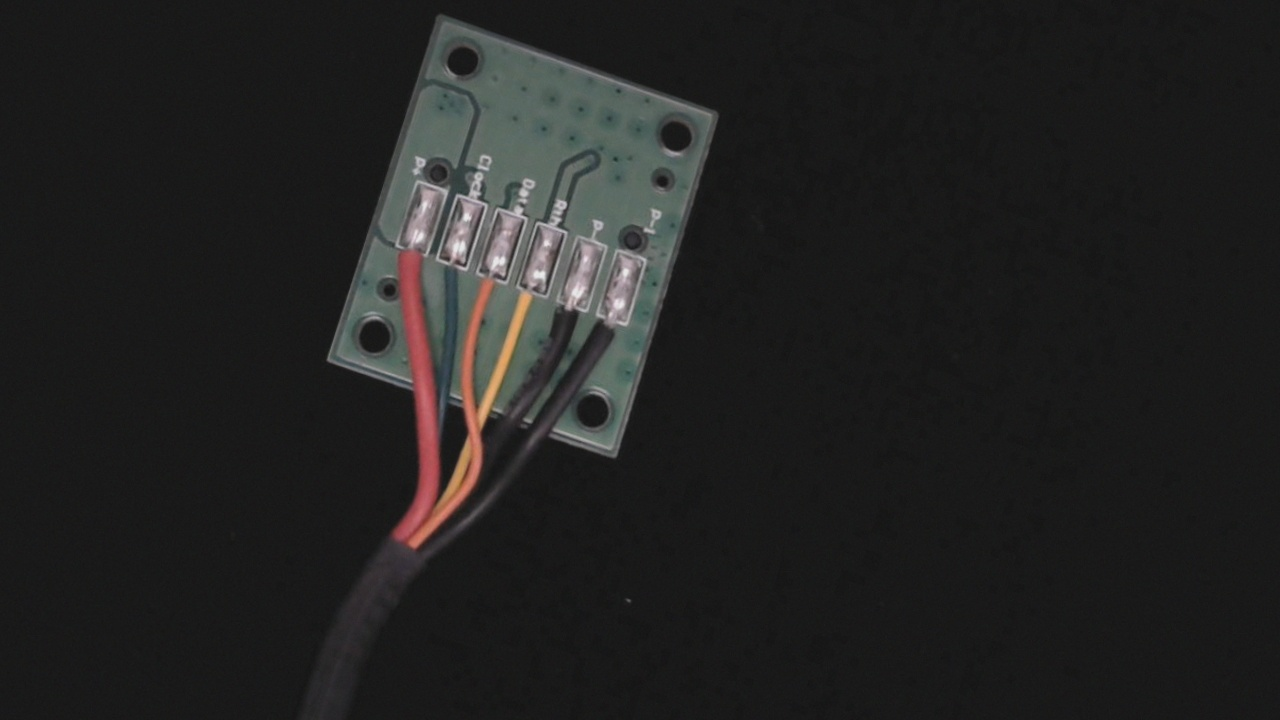Black: (539, 282, 594, 364)
Black1: (582, 297, 634, 371)
Green: (419, 240, 472, 316)
Orange: (460, 255, 511, 331)
Red: (377, 231, 433, 315)
Yellow: (499, 267, 553, 351)
